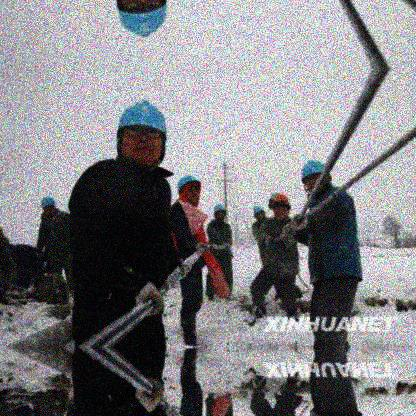helmet: (117, 99, 169, 166), (302, 160, 332, 195), (177, 175, 201, 204), (268, 192, 291, 218), (41, 196, 55, 215), (214, 203, 226, 221), (253, 204, 265, 221)
